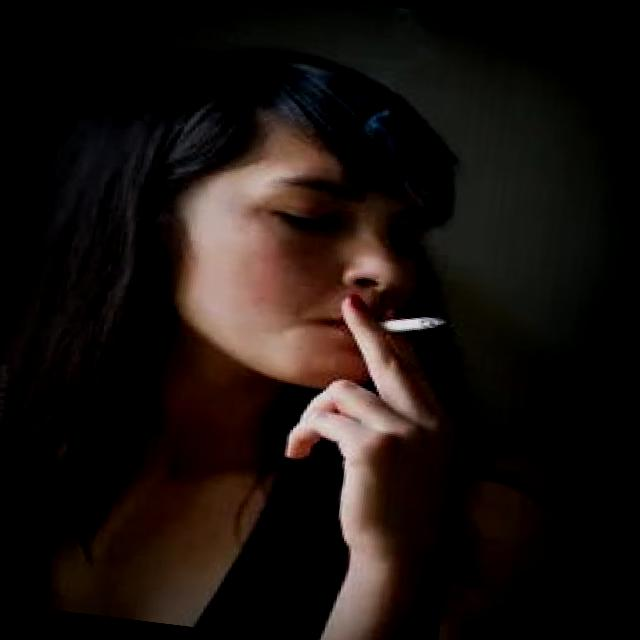cigarette: (363, 304, 455, 348)
